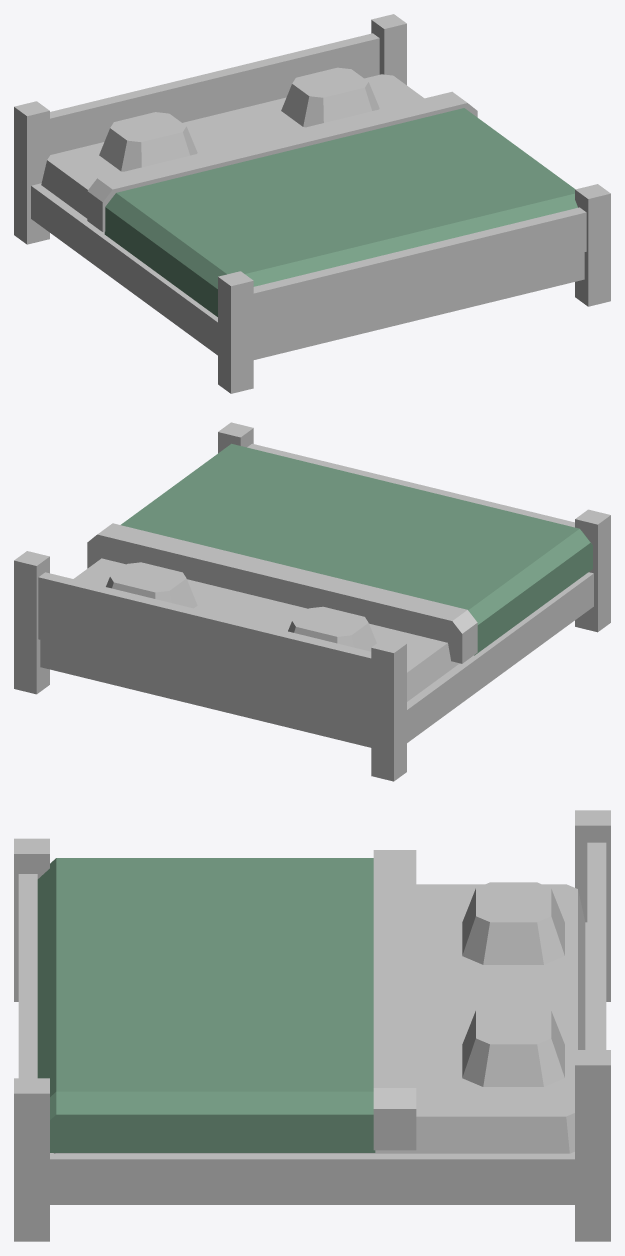
The model's file is bed_double.obj.
3 renders of one model, top to bottom at view 1: azimuth 30°, elevation 25°; view 2: azimuth 150°, elevation 25°; view 3: azimuth 270°, elevation 25°, orthographic. The views are drawn at different scales.
Parts seen in each view (by area): view 1: bed_double_10, bed_double_0, bed_double_6, bed_double_5, bed_double_11, bed_double_7, bed_double_2, bed_double_8, bed_double_9, bed_double_1, bed_double_4, bed_double_3; view 2: bed_double_10, bed_double_5, bed_double_0, bed_double_11, bed_double_7, bed_double_1, bed_double_3, bed_double_2, bed_double_9, bed_double_8, bed_double_6, bed_double_4; view 3: bed_double_10, bed_double_7, bed_double_0, bed_double_11, bed_double_8, bed_double_9, bed_double_3, bed_double_4, bed_double_5, bed_double_6, bed_double_1, bed_double_2.
Boxes of the visible parts, left/top/right/bottom form: bed_double_10: left=104, top=108, right=577, bottom=316; bed_double_0: left=31, top=183, right=584, bottom=359; bed_double_6: left=253, top=207, right=586, bottom=332; bed_double_5: left=50, top=33, right=379, bottom=154; bed_double_11: left=87, top=91, right=477, bottom=232; bed_double_7: left=41, top=74, right=424, bottom=218; bed_double_2: left=218, top=271, right=253, bottom=393; bed_double_8: left=99, top=112, right=197, bottom=171; bed_double_9: left=281, top=67, right=379, bottom=127; bed_double_1: left=14, top=101, right=49, bottom=244; bed_double_4: left=575, top=184, right=610, bottom=306; bed_double_3: left=371, top=14, right=406, bottom=85; bed_double_10: left=121, top=443, right=592, bottom=655; bed_double_5: left=38, top=572, right=371, bottom=720; bed_double_0: left=40, top=572, right=593, bottom=747; bed_double_11: left=87, top=523, right=477, bottom=663; bed_double_7: left=74, top=558, right=459, bottom=701; bed_double_1: left=371, top=638, right=406, bottom=781; bed_double_3: left=14, top=551, right=49, bottom=694; bed_double_2: left=575, top=509, right=610, bottom=632; bed_double_9: left=106, top=562, right=197, bottom=608; bed_double_8: left=288, top=606, right=376, bottom=651; bed_double_6: left=247, top=443, right=574, bottom=527; bed_double_4: left=218, top=422, right=253, bottom=453; bed_double_10: left=37, top=858, right=375, bottom=1152; bed_double_7: left=54, top=884, right=585, bottom=1153; bed_double_0: left=50, top=922, right=587, bottom=1204; bed_double_11: left=373, top=850, right=416, bottom=1150; bed_double_8: left=462, top=882, right=564, bottom=964; bed_double_9: left=462, top=1004, right=564, bottom=1086; bed_double_3: left=575, top=1050, right=610, bottom=1241; bed_double_4: left=14, top=1078, right=49, bottom=1241; bed_double_5: left=587, top=842, right=606, bottom=1049; bed_double_6: left=18, top=874, right=37, bottom=1078; bed_double_1: left=575, top=810, right=610, bottom=1001; bed_double_2: left=14, top=838, right=49, bottom=1001.
Size of the model in its own units: 1.92 by 0.62 by 1.9.
